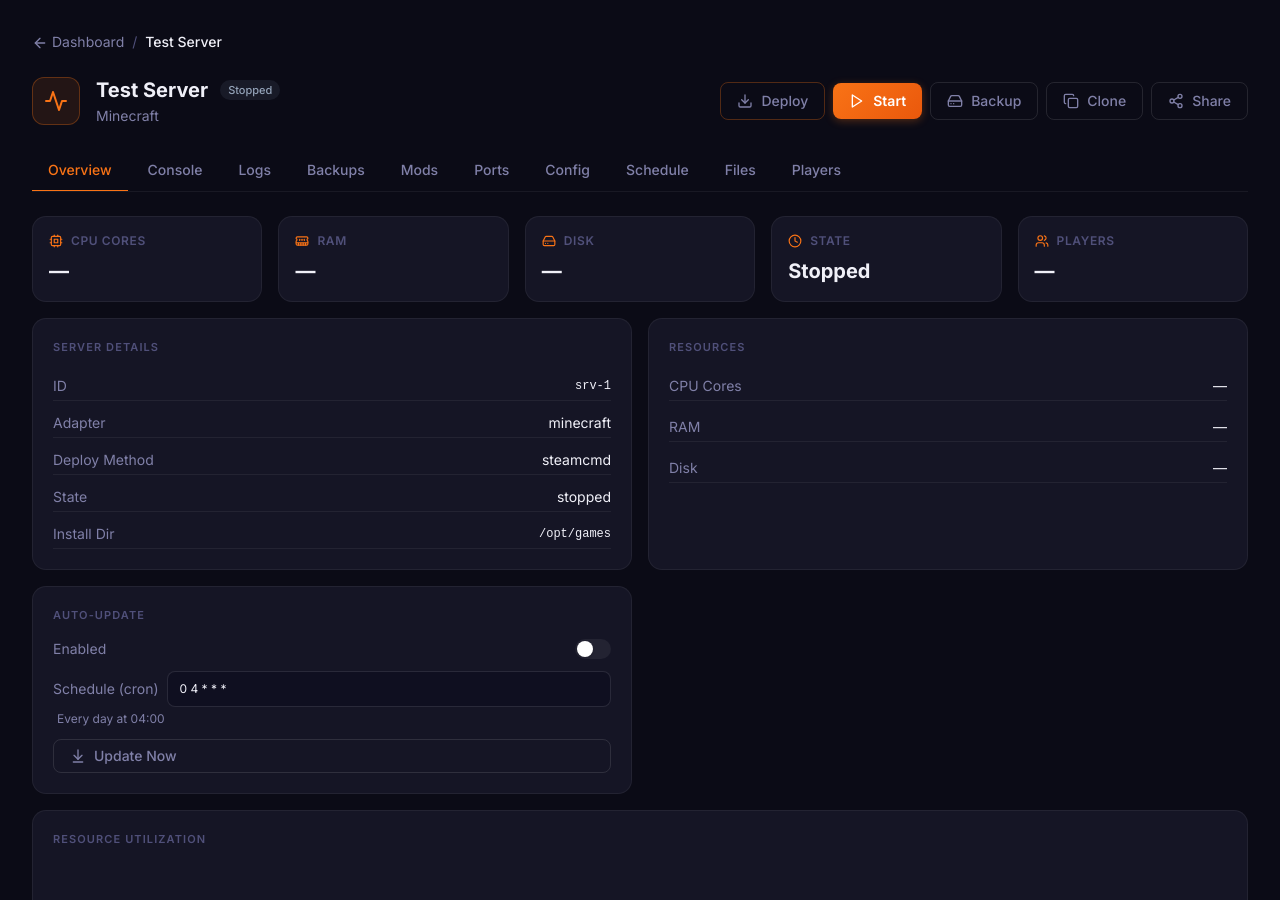
Test case: ServerDetailPage › switches to Console tab on click
Step 1. Click the button "Console" → coordinates (175, 171), box [132, 150, 218, 192]
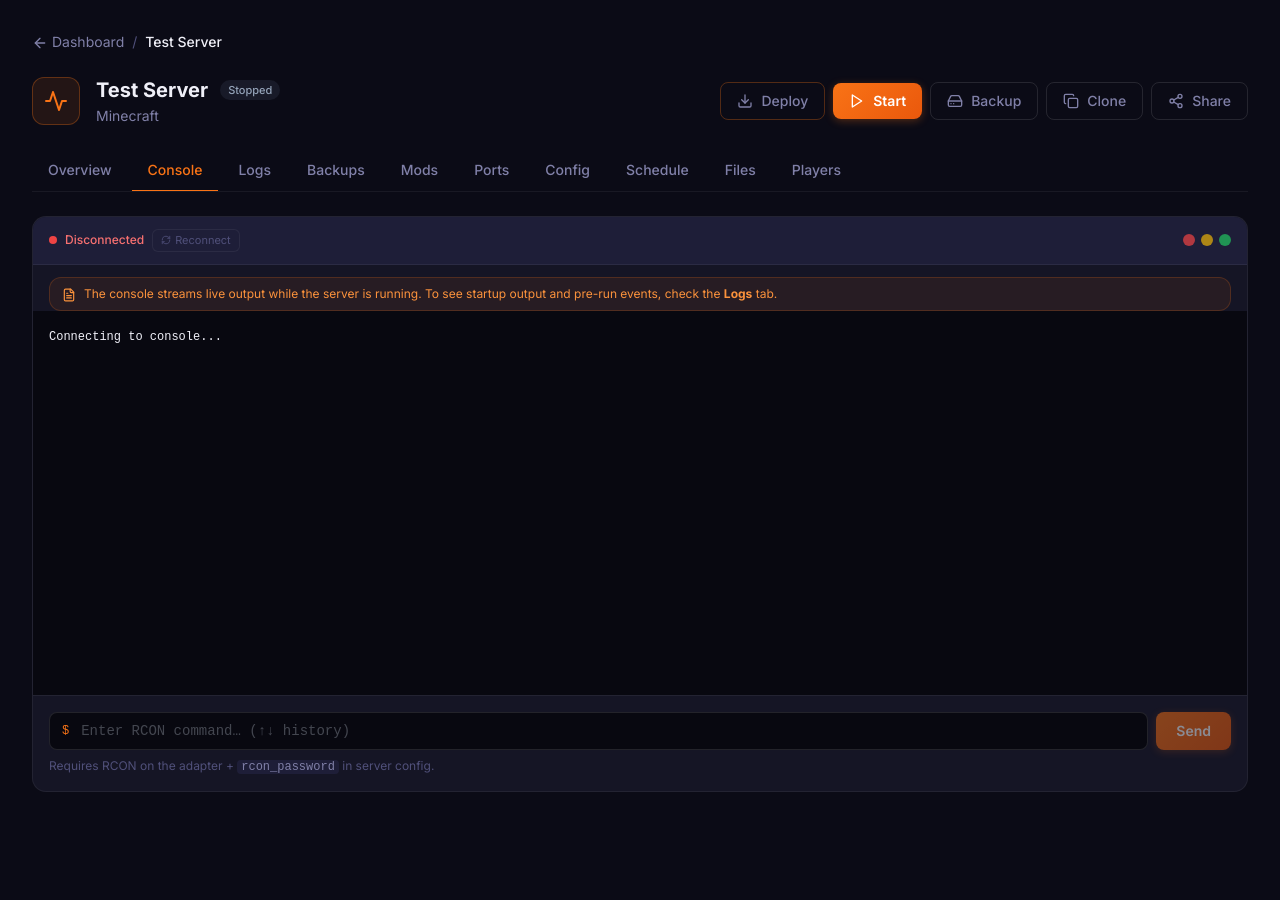
expect the text "console streams live output" is shown: met, box [84, 286, 724, 300]
